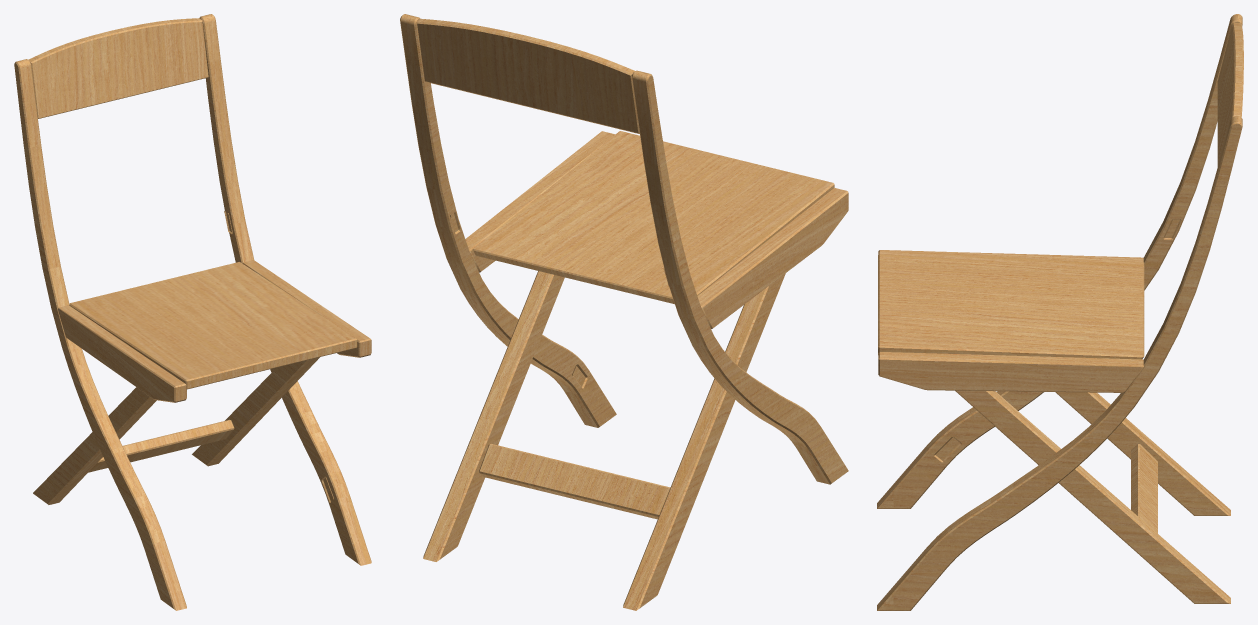
Rendered from chear_08_obj.obj.
3 renders of one model, left to right at view 1: azimuth 30°, elevation 25°; view 2: azimuth 150°, elevation 25°; view 3: azimuth 270°, elevation 25°, orthographic. The views are drawn at different scales.
Visible parts, largest first — view 1: Chear_VIII; view 2: Chear_VIII; view 3: Chear_VIII.
Part boxes in pixels (x1=…): Chear_VIII: x1=14, y1=14, x2=371, y2=610; Chear_VIII: x1=400, y1=14, x2=848, y2=610; Chear_VIII: x1=877, y1=14, x2=1243, y2=610.
Bounding box in the file's own units: 316 × 670 × 449.
1 material, 1 textured.
